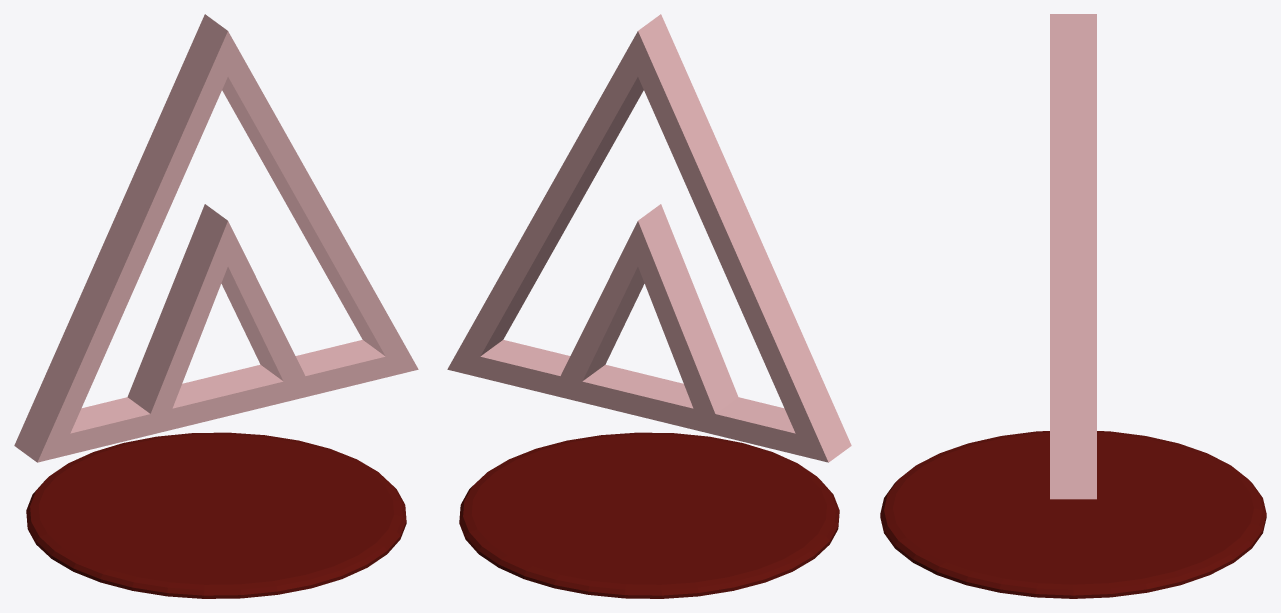
Rendered from ambula.glb.
3 views of the same model, side by side, from view 1: azimuth 30°, elevation 25°; view 2: azimuth 150°, elevation 25°; view 3: azimuth 270°, elevation 25° (orthographic).
Visible parts, largest first — view 1: Curve.007, Circle.001; view 2: Curve.007, Circle.001; view 3: Circle.001, Curve.007.
Part boxes in pixels (<box>): Curve.007: <box>14,14,418,462</box>; Circle.001: <box>26,432,406,598</box>; Curve.007: <box>447,14,851,462</box>; Circle.001: <box>459,432,839,598</box>; Circle.001: <box>880,431,1266,598</box>; Curve.007: <box>1050,14,1096,499</box>.
Bounding box in the file's own units: 0.616 × 0.7657 × 0.5327.
